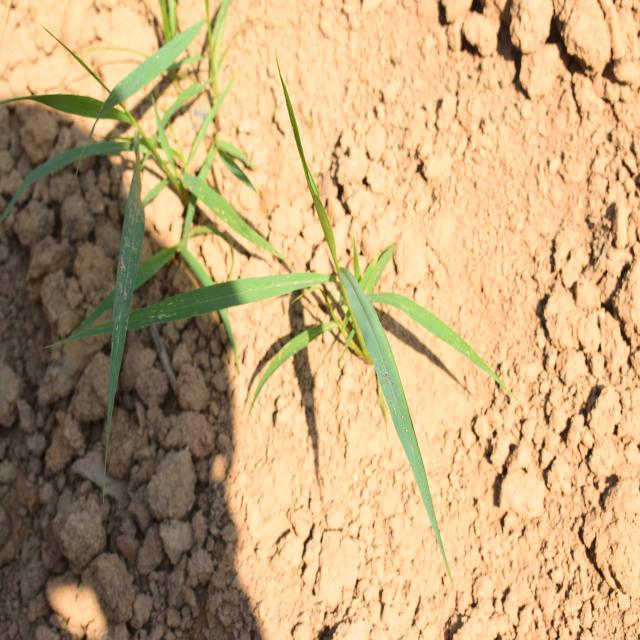green_foxtail: (199, 172, 456, 436), (48, 34, 272, 332)
